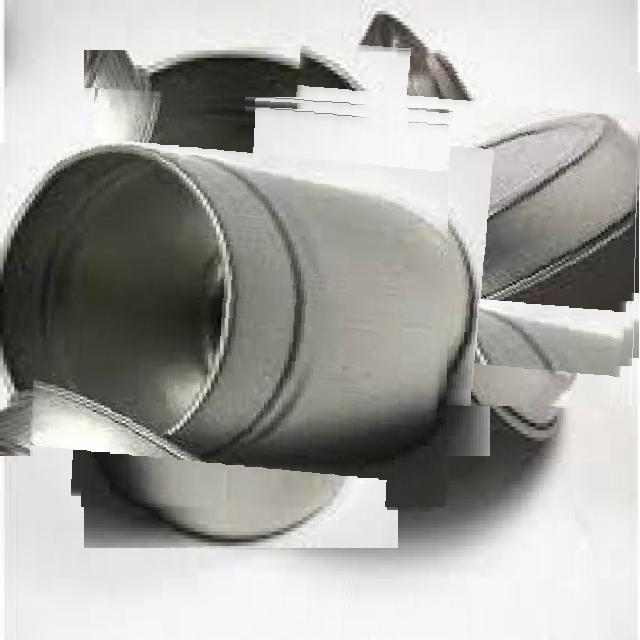recyclable: (33, 91, 449, 507), (282, 47, 640, 406)
